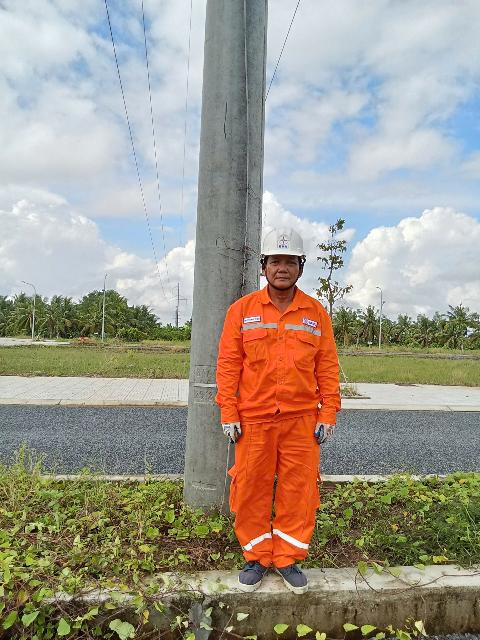gloves: (211, 415, 248, 448), (306, 416, 338, 446)
shoes: (273, 549, 313, 597), (237, 549, 274, 596)
